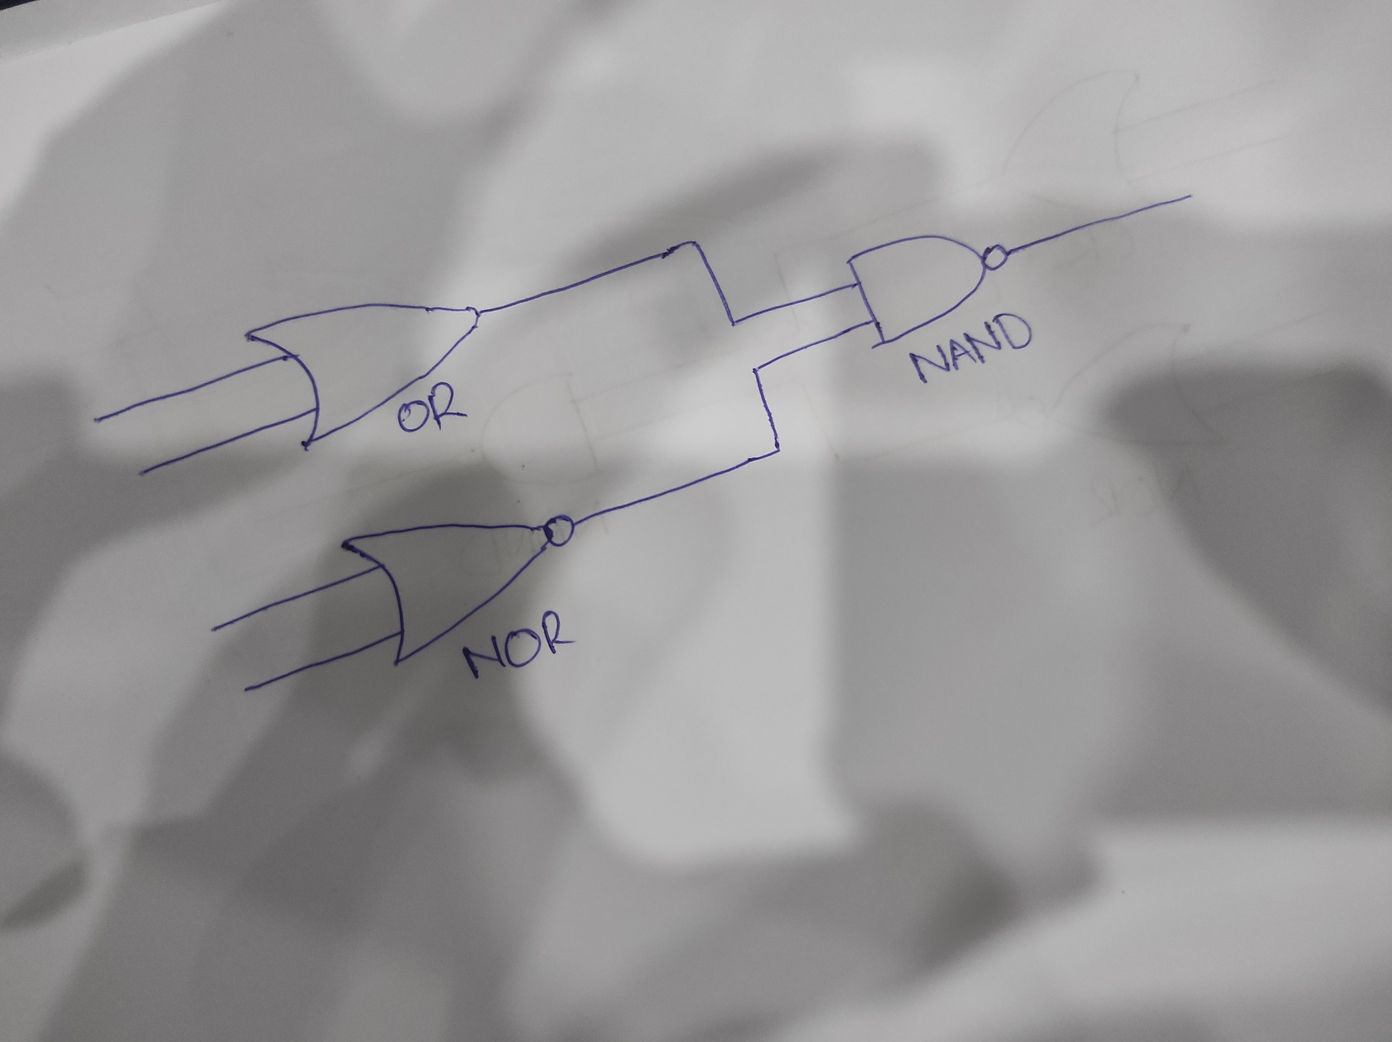junction: (758, 430, 794, 466), (677, 229, 710, 259), (742, 354, 773, 384), (720, 309, 742, 333)
nand: (843, 231, 1012, 351)
nor: (336, 511, 578, 670)
or: (241, 299, 485, 454)
terminal: (79, 403, 118, 431), (228, 674, 262, 704), (1165, 184, 1203, 209), (201, 617, 225, 639), (131, 465, 151, 481)
text: (907, 310, 1035, 387), (459, 607, 575, 679), (395, 378, 468, 435)
